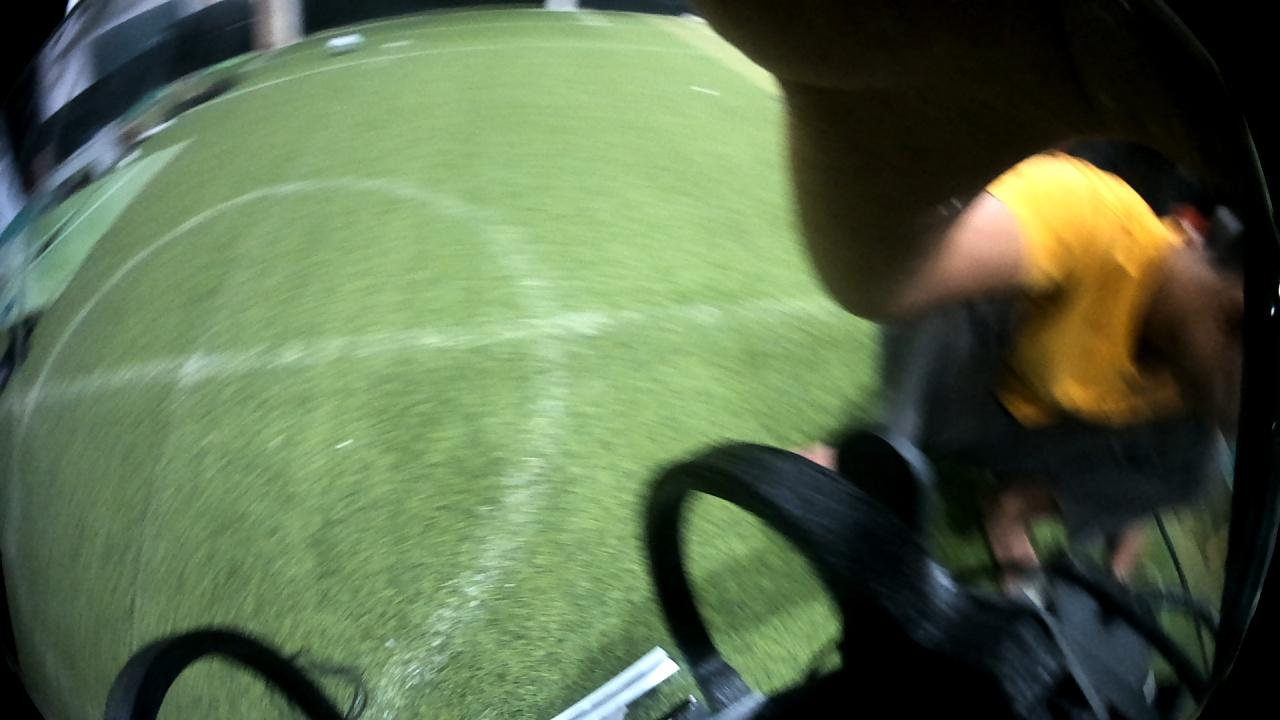ball: (321, 30, 362, 54)
